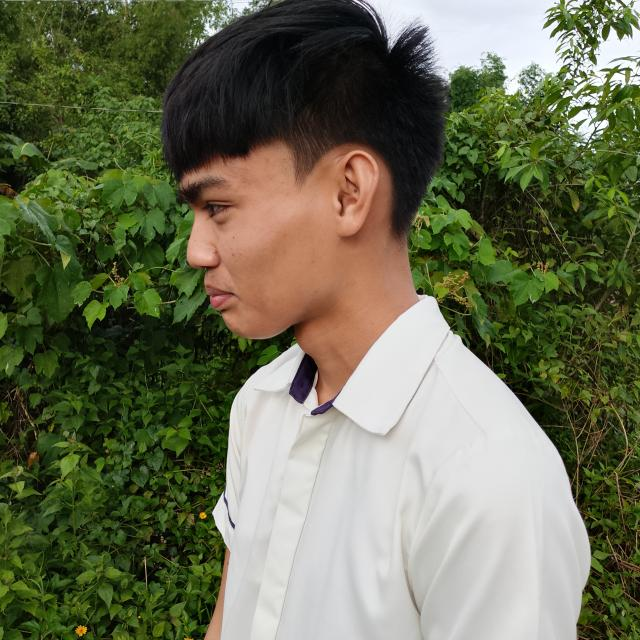education_male_uniform: (367, 332, 620, 640), (176, 377, 414, 640), (308, 299, 567, 505), (207, 308, 355, 449)
